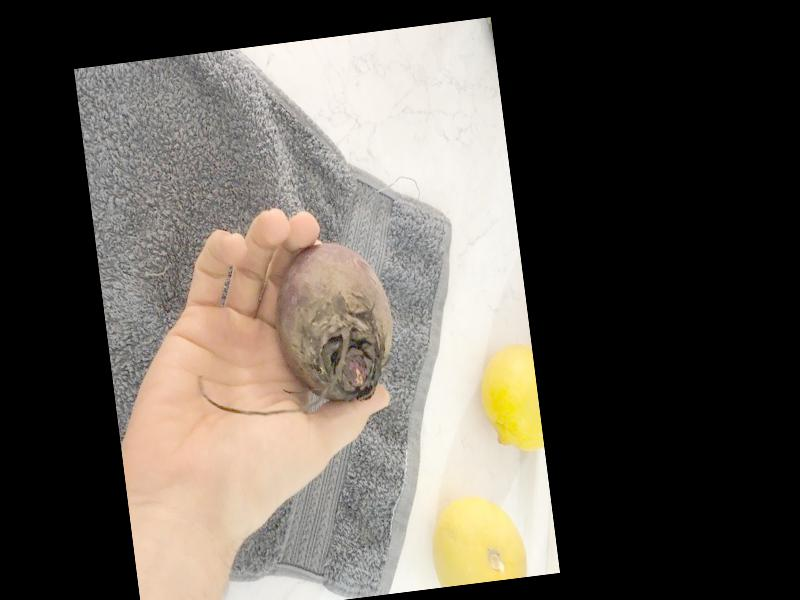Beet: (183, 234, 401, 419)
